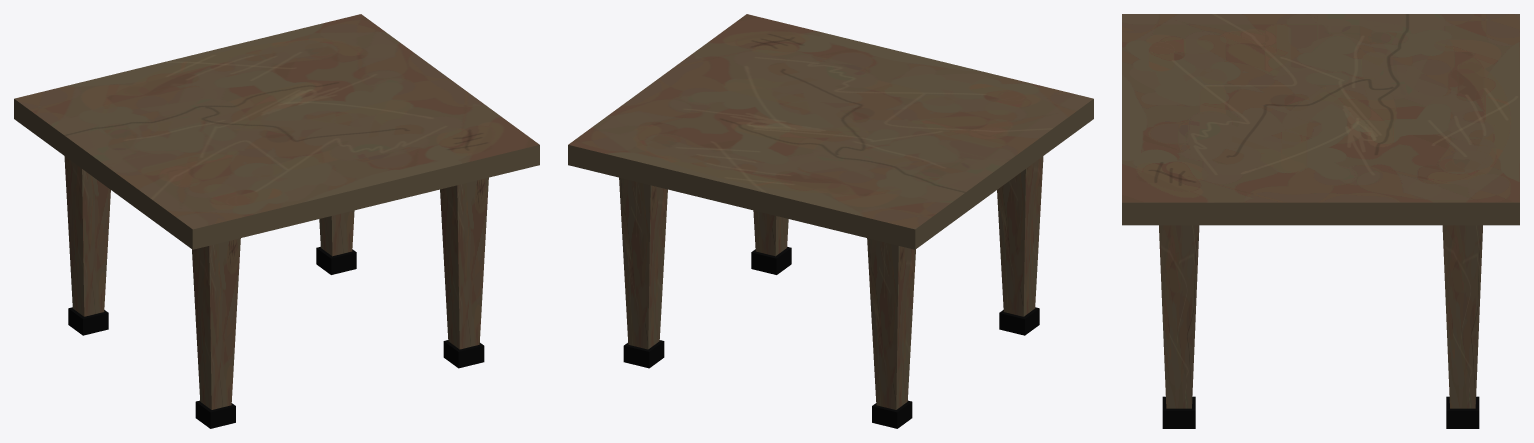
Rendered from MesaMarron.fbx.
The picture shows the model from 3 angles, left to right: view 1: azimuth 30°, elevation 25°; view 2: azimuth 150°, elevation 25°; view 3: azimuth 270°, elevation 25°; orthographic projection. The views are drawn at different scales.
Parts seen in each view (by area): view 1: Cube.004; view 2: Cube.004; view 3: Cube.004.
Part boxes in pixels (box(x1,y1,x2,y2)): Cube.004: box(14, 14, 539, 428); Cube.004: box(568, 14, 1093, 428); Cube.004: box(1122, 14, 1519, 428).
Size of the model in its own units: 1564 by 955 by 1395.
Materials: 2 (1 with a texture image).
